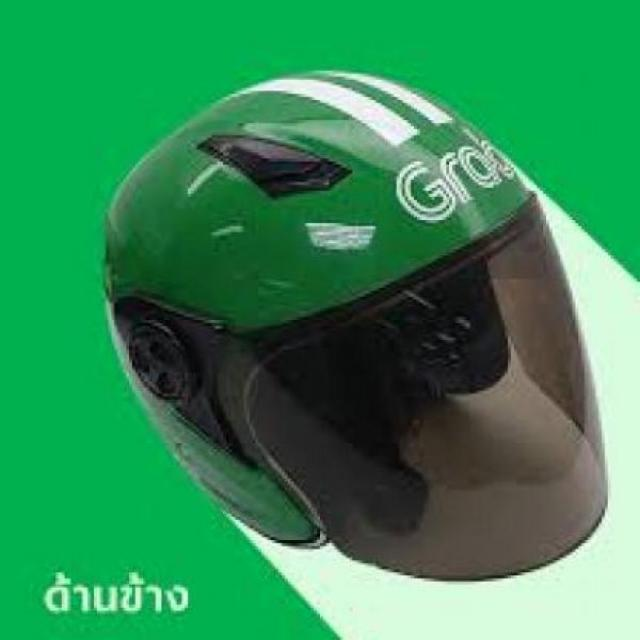Helmet: (98, 64, 640, 630)
